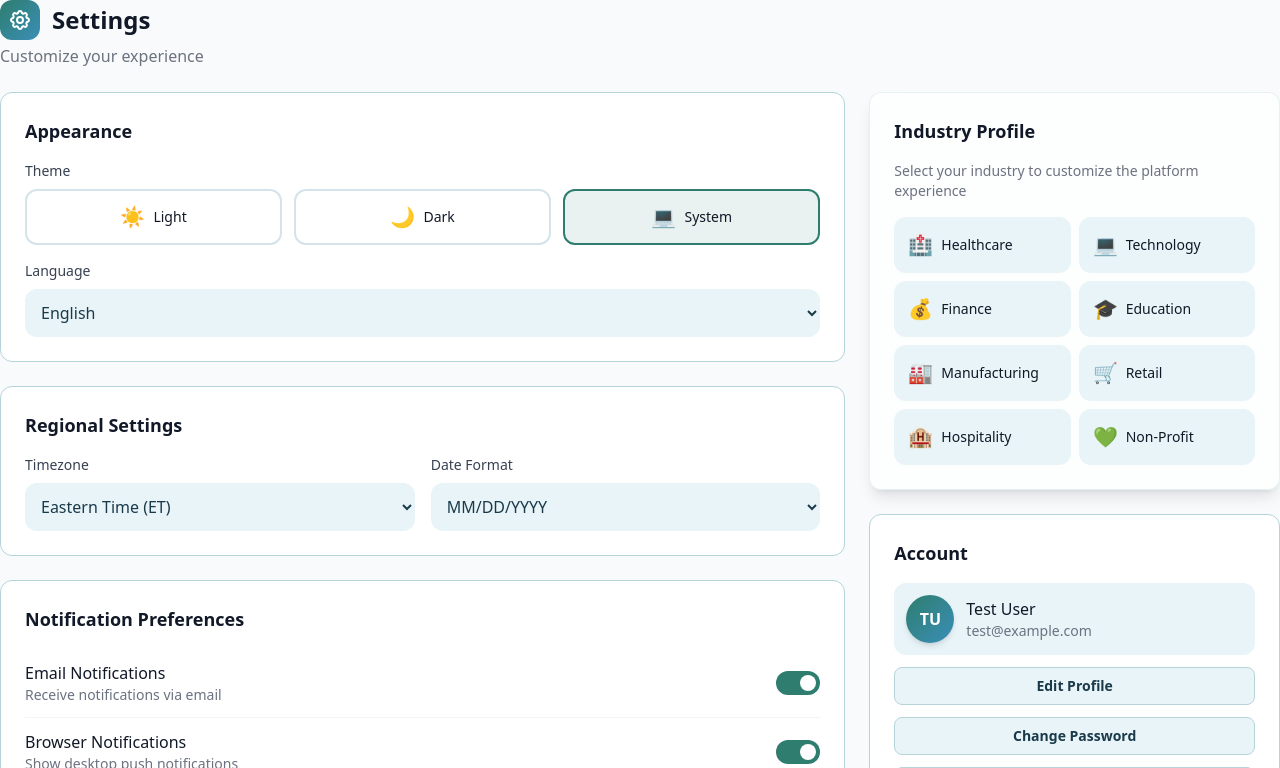
it: Settings Component › opens Change Password modal when clicked
The image size is (1280, 768).
Click the button with test id "change-password-button".
click(1075, 736)  # box [894,717,1255,755]
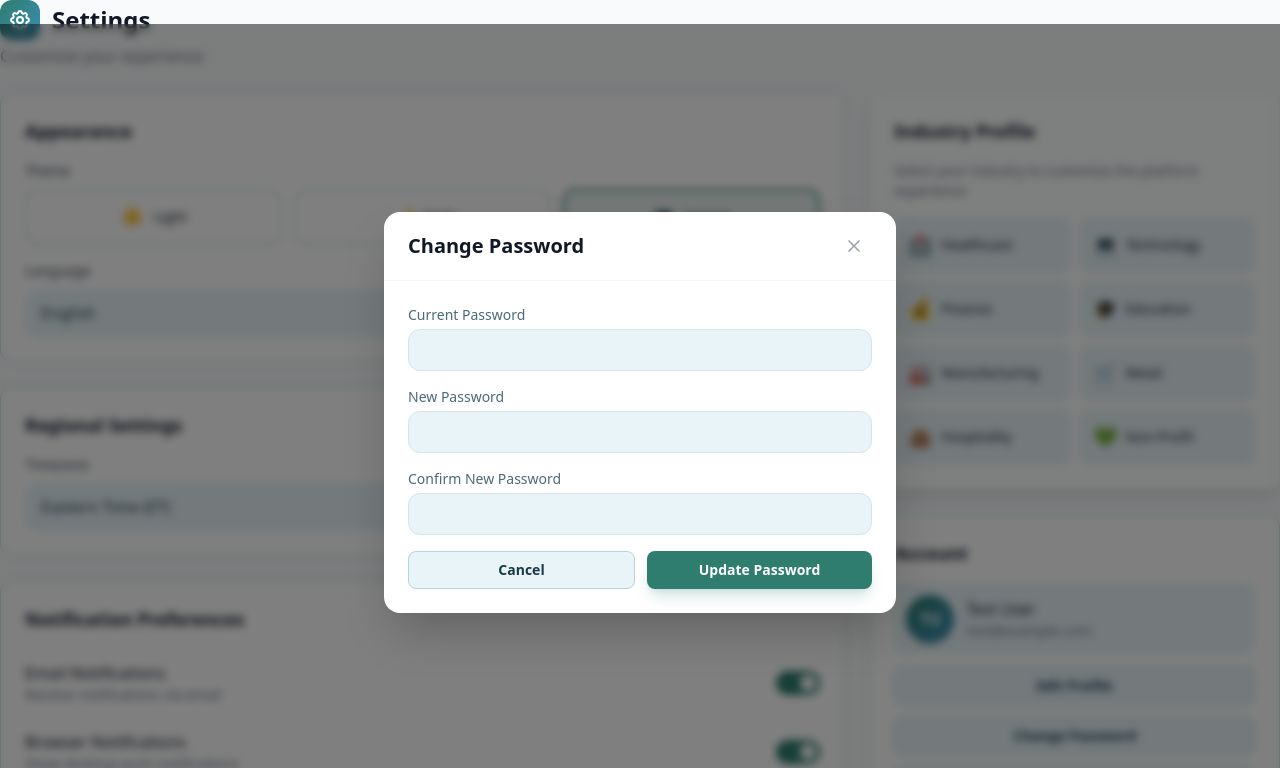
Expected: the text "Current Password" is shown, [408,304,525,324]
